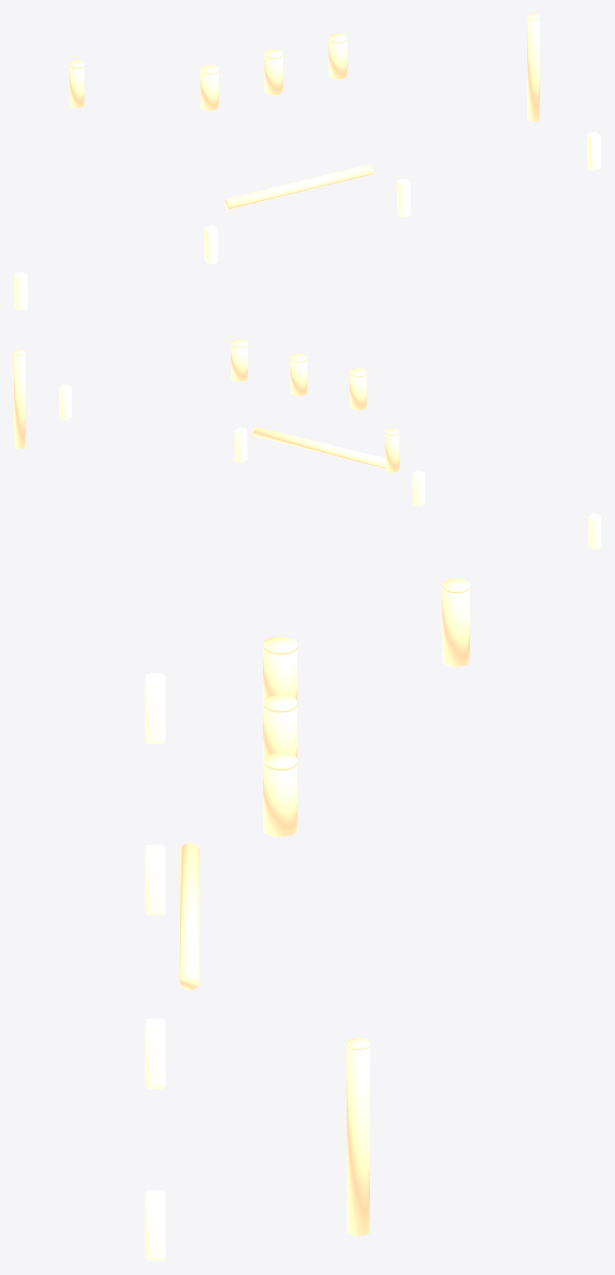
The model's file is overload.glb.
3 renders of one model, top to bottom at view 1: azimuth 30°, elevation 25°; view 2: azimuth 150°, elevation 25°; view 3: azimuth 270°, elevation 25°, orthographic. The views are drawn at different scales.
Visible parts, largest first — view 1: Overload__Compute__HotPipe, Overload__Research__ServicePipe, Overload__Compute__EmergencyCooler_02, Overload__Compute__EmergencyCooler_01, Overload__Compute__EmergencyCooler_00, Overload__LabCore__HotVent_02, Overload__Campus__WarningBeacon_01, Overload__Campus__WarningBeacon_02, Overload__Campus__WarningBeacon_00, Overload__Campus__WarningBeacon_03; view 2: Overload__Compute__HotPipe, Overload__Research__ServicePipe, Overload__Compute__EmergencyCooler_00, Overload__Compute__EmergencyCooler_01, Overload__Compute__EmergencyCooler_02, Overload__LabCore__HotVent_02, Overload__Campus__WarningBeacon_01, Overload__Campus__WarningBeacon_02, Overload__Campus__WarningBeacon_00, Overload__Campus__WarningBeacon_03; view 3: Overload__Research__ServicePipe, Overload__Compute__HotPipe, Overload__Compute__EmergencyCooler_02, Overload__LabCore__HotVent_02, Overload__Compute__EmergencyCooler_01, Overload__Compute__EmergencyCooler_00, Overload__Campus__WarningBeacon_00, Overload__Campus__WarningBeacon_03, Overload__Campus__WarningBeacon_01, Overload__Campus__WarningBeacon_02.
Part boxes in pixels (x1,y1,x2,y2): Overload__Compute__HotPipe: (224, 164, 372, 209); Overload__Research__ServicePipe: (527, 14, 539, 121); Overload__Compute__EmergencyCooler_02: (328, 33, 347, 79); Overload__Compute__EmergencyCooler_01: (264, 49, 282, 94); Overload__Compute__EmergencyCooler_00: (200, 65, 218, 110); Overload__LabCore__HotVent_02: (69, 60, 84, 108); Overload__Campus__WarningBeacon_01: (204, 225, 217, 264); Overload__Campus__WarningBeacon_02: (397, 178, 410, 217); Overload__Campus__WarningBeacon_00: (14, 272, 27, 310); Overload__Campus__WarningBeacon_03: (587, 132, 600, 170); Overload__Compute__HotPipe: (252, 427, 385, 468); Overload__Research__ServicePipe: (14, 349, 25, 448); Overload__Compute__EmergencyCooler_00: (349, 368, 366, 410); Overload__Compute__EmergencyCooler_01: (290, 353, 307, 395); Overload__Compute__EmergencyCooler_02: (231, 339, 247, 381); Overload__LabCore__HotVent_02: (385, 428, 399, 472); Overload__Campus__WarningBeacon_01: (412, 470, 425, 506); Overload__Campus__WarningBeacon_02: (234, 427, 247, 463); Overload__Campus__WarningBeacon_00: (588, 513, 600, 549); Overload__Campus__WarningBeacon_03: (59, 384, 71, 420); Overload__Research__ServicePipe: (346, 1038, 369, 1236); Overload__Compute__HotPipe: (180, 843, 199, 989); Overload__Compute__EmergencyCooler_02: (263, 752, 297, 836); Overload__LabCore__HotVent_02: (442, 578, 469, 666); Overload__Compute__EmergencyCooler_01: (263, 694, 297, 759); Overload__Compute__EmergencyCooler_00: (263, 637, 297, 701); Overload__Campus__WarningBeacon_00: (145, 673, 165, 743); Overload__Campus__WarningBeacon_03: (145, 1190, 165, 1260); Overload__Campus__WarningBeacon_01: (145, 845, 165, 915); Overload__Campus__WarningBeacon_02: (145, 1018, 165, 1088).
Bounding box in the file's own units: 25.42 × 6.7 × 6.64.
